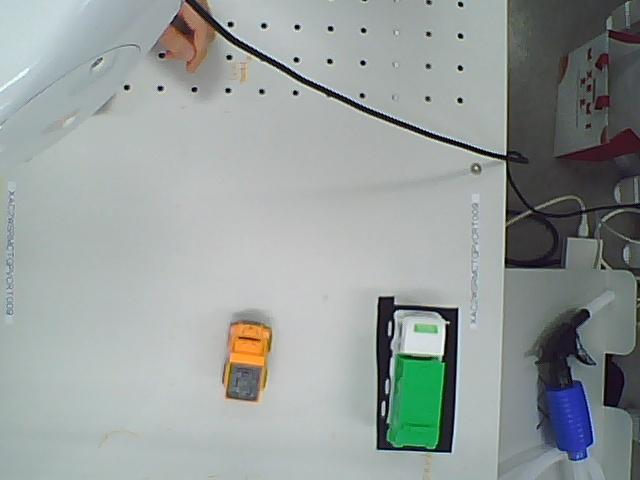Diesel car: (209, 309, 273, 408)
Electric car: (377, 302, 459, 457)
